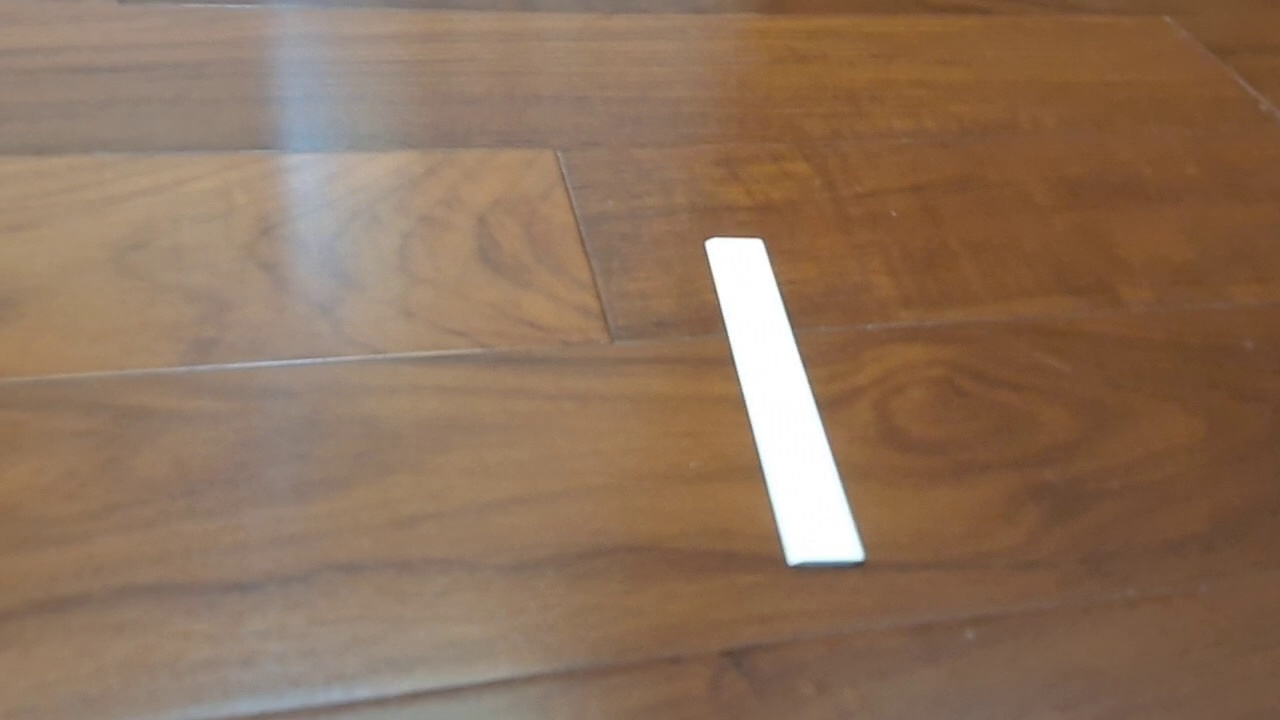ruler: (701, 235, 868, 570)
